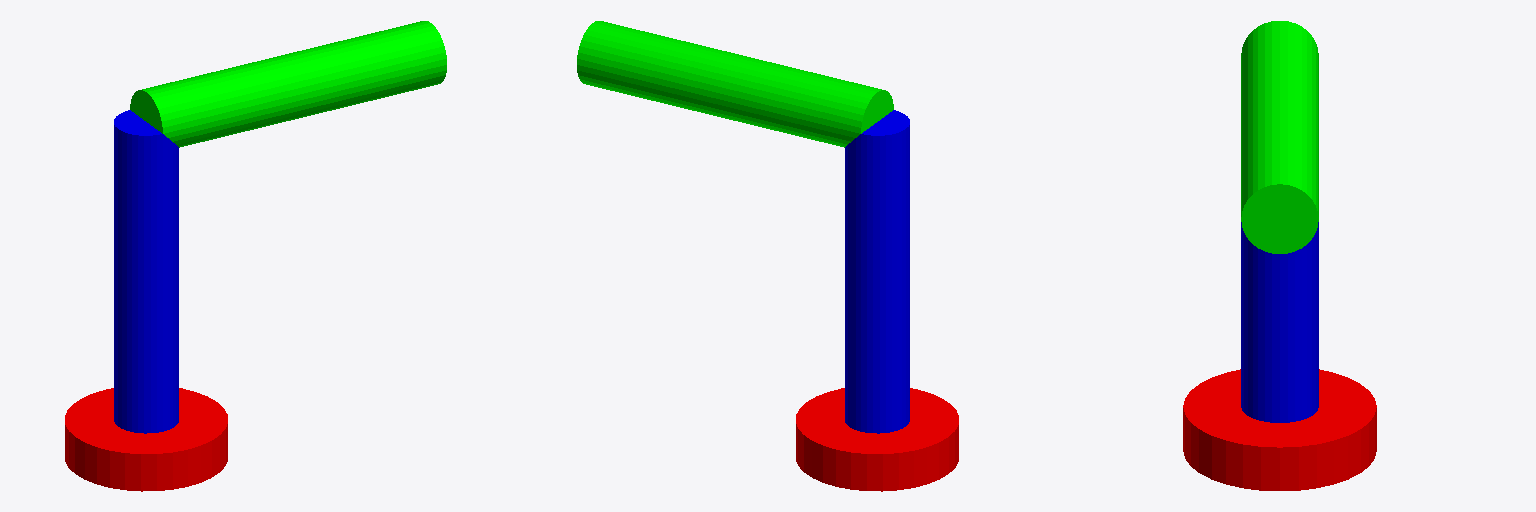
robot.urdf — polarbot:
<?xml version="1.0"?>
<!-- 0: Give the robot a name -->
<robot name="polarbot">
<!-- 0: Define some colors for use later -->
<material name="red"> <color rgba="1.0 0.0 0.0 1.0"/> </material>
<material name="green"> <color rgba="0.0 1.0 0.0 1.0"/> </material>
<material name="blue"> <color rgba="0.0 0.0 1.0 1.0"/> </material>

<!-- 1: Special link that defines origin of world co-ordinate system in ROS
-->
<link name="world"/>
<!-- 1: Create a base that consists of a squat cylinder -->
<link name="base_link">
<visual>
<origin rpy="0 0 0" xyz="0 0 0.025"/>
<geometry> <cylinder length="0.05" radius="0.1"/> </geometry>
<material name="red"/>
</visual>
</link>
<!-- 1: Attach base_link to ROS's world link -->
<joint name="fixed" type="fixed">
<parent link="world"/>
<child link="base_link"/>
</joint>

<!-- 2: Create a link that will form the outer cylinder of the first
prismatic actuator -->
<link name="torso">
<visual>
<geometry> <cylinder length="0.4" radius="0.04"/> </geometry>
<material name="blue"/>
<origin rpy="0 0 0" xyz="0 0 0.25"/>
</visual>
</link>
<!-- 2: Attach cylinder to ROS's base_link using a revolute joint -->
<joint name="R1" type="revolute">
<limit lower="-1.5708" upper="1.5708" effort="10" velocity="3"/>
<axis xyz="0 0 1"/>
<parent link="base_link"/>
<child link="torso"/>
</joint>

<!-- 3: Create a link that will form the inner piston of the prismatic
actuator (torso) -->
<link name="piston1">
<visual>
<geometry> <cylinder length="0.4" radius="0.02"/> </geometry>
<material name="blue"/>
<origin rpy="0 0 0" xyz="0 0 0"/>
</visual>
</link>
<!-- 3: Join -->
<joint name="P1A" type="prismatic">
<limit lower="0" upper="0.4" effort="10" velocity="3"/>
<axis xyz="0 0 1"/>
<parent link="torso"/>
<child link="piston1"/>
<origin rpy="0 0 0" xyz="0 0 0.25"/>
</joint>

<!-- 4: Create a link that will form the inner piston of the second
prismatic actuator (arm) -->
<link name="piston2">
<visual>
<geometry> <cylinder length="0.4" radius="0.02"/> </geometry>
<material name="green"/>
<origin rpy="0 0 0" xyz="0 0 0"/>
</visual>
</link>
<!-- 4: Join the second prismatic actuator to the the first (at 90 degrees,
1.57 radians) -->
<joint name="P2B" type="prismatic">
<limit lower="0" upper="0.4" effort="10" velocity="3"/>
<axis xyz="0 0 1"/>
<parent link="piston1"/>
<child link="piston2"/>
<origin rpy="0 1.5708 0" xyz="0.2 0 0.2"/>
</joint> 

<!-- 5: Create a link that will form the outer cylinder of the second
prismatic actuator (arm) -->
<link name="arm">
<visual>
<geometry> <cylinder length="0.4" radius="0.04"/> </geometry>
<material name="green"/>
<origin rpy="0 0 0" xyz="0 0 0"/>
</visual>
</link>
<!-- 5: Join -->
<joint name="P2A" type="fixed">
<parent link="piston1"/>
<child link="arm"/>
<origin rpy="0 1.5708 0" xyz="0.2 0 0.2"/>
</joint>

<!-- 6: Create a link that will form the end effector (a drill) -->
<link name="drill">
<visual>
<geometry><mesh filename="file://[local-path]/AlexPortableSSD/School/4th-year/CS422/Assignment2/drill.dae"
scale="0.01 0.01 0.01"/></geometry>
<origin rpy="0 0 1.5708" xyz="0 0 0.085"/>
</visual>
</link>
<!-- 6: Join -->
<joint name="tool_mount" type="continuous">
<axis xyz="0 0 1"/>
<parent link="piston2"/>
<child link="drill"/>
<origin rpy="0 0 0" xyz="0 0 0.25"/>
</joint>

</robot>

--- What the picture shows (computed from the rendered views, not written in the file) ---
Views: 3 orthographic renders of the robot side by side, from view 1: azimuth 30°, elevation 25°; view 2: azimuth 150°, elevation 25°; view 3: azimuth 270°, elevation 25°.
Robot: polarbot — 7 links, 6 joints (1 revolute, 1 continuous, 2 prismatic, 2 fixed); root link world; default pose: every joint at zero.
Visible links, largest first — view 1: torso, arm, base_link; view 2: torso, arm, base_link; view 3: base_link, arm, torso, piston2.
Link boxes in pixels (x1,y1,x2,y2): torso: (114, 110, 178, 433); arm: (130, 21, 446, 147); base_link: (65, 388, 227, 491); torso: (845, 110, 909, 433); arm: (577, 21, 893, 147); base_link: (796, 388, 958, 491); base_link: (1183, 369, 1376, 490); arm: (1241, 21, 1318, 253); torso: (1241, 222, 1318, 422); piston2: (1261, 202, 1298, 236).
Size in the robot's own frame: 0.5 by 0.2 by 0.49 metres.
Geometry: only primitive shapes (box / cylinder / sphere) drawn; not drawn: 1 mesh visual (reference in a form the renderer does not follow).
